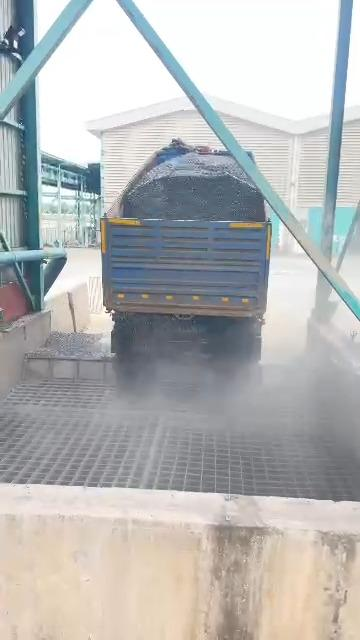gravel: (124, 150, 265, 219), (111, 313, 260, 377), (30, 332, 109, 358)
